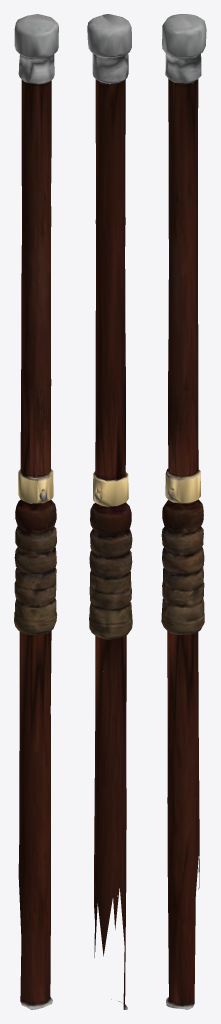
File: bo-staff.glb
3 views of the same model, side by side, from view 1: azimuth 30°, elevation 25°; view 2: azimuth 150°, elevation 25°; view 3: azimuth 330°, elevation 25° (orthographic).
Parts seen in each view (by area): view 1: bo-staff; view 2: bo-staff; view 3: bo-staff.
Boxes of the visible parts, x1,y1,x2,y2 form: bo-staff: (14, 14, 58, 1009); bo-staff: (87, 14, 132, 1009); bo-staff: (161, 14, 206, 1009).
Size of the model in its own units: 0.0738 by 1.8 by 0.0738.
1 material, 1 textured.
